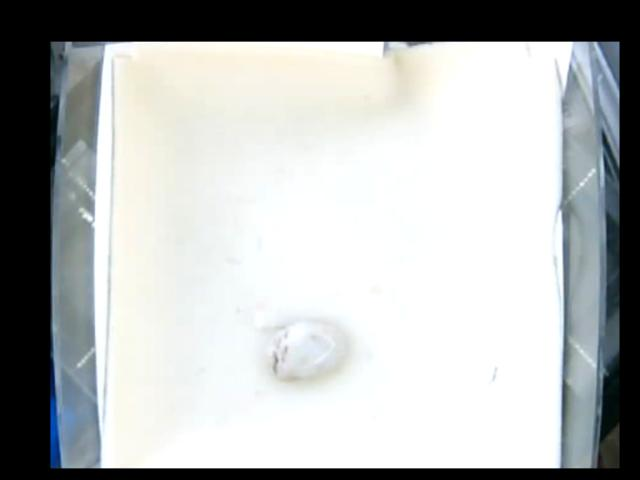Pebble: (267, 318, 350, 383)
